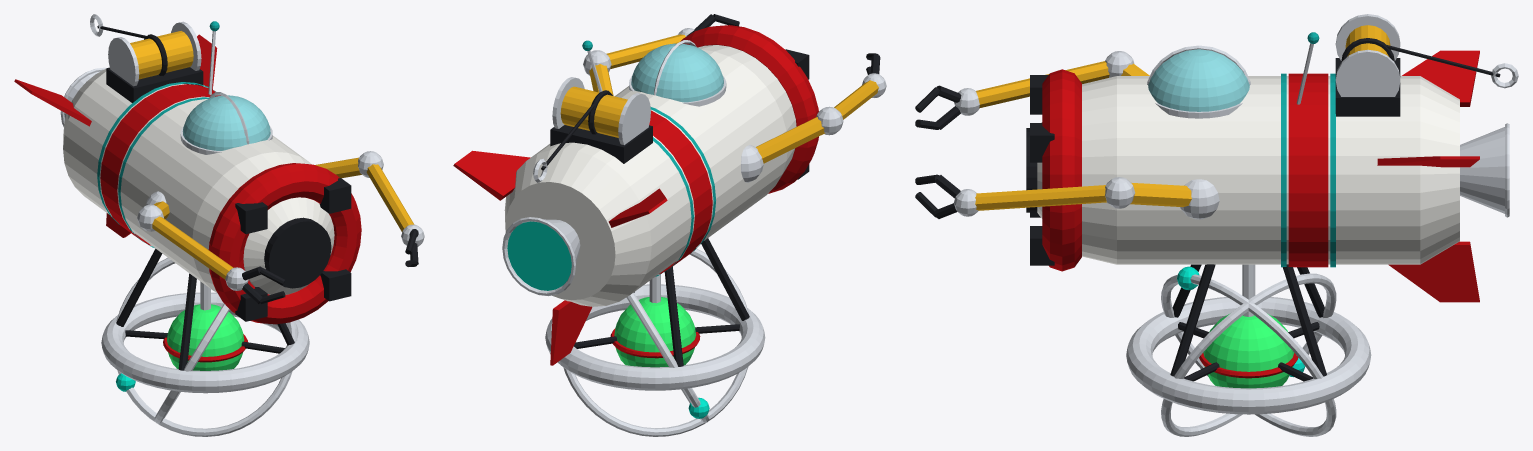
File: tug.obj
The picture shows the model from 3 angles, left to right: view 1: azimuth 30°, elevation 25°; view 2: azimuth 150°, elevation 25°; view 3: azimuth 270°, elevation 25°; orthographic projection. The views are drawn at different scales.
Visible parts, largest first — view 1: tug; view 2: tug; view 3: tug.
Boxes of the visible parts, <box> form: tug: <box>14,14,424,436</box>; tug: <box>453,14,886,436</box>; tug: <box>915,14,1518,436</box>.
Bounding box in the file's own units: 43.77 × 63.27 × 80.
1 material, 1 textured.
